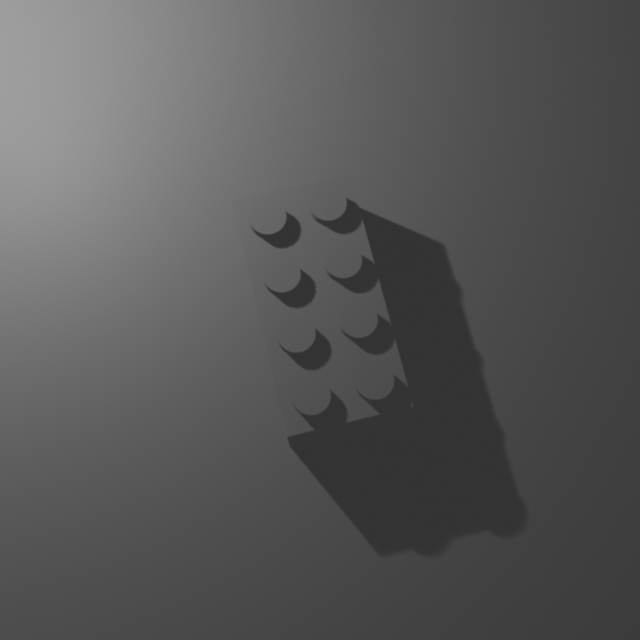lego_2x4: (231, 169, 415, 447)
